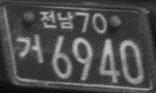0: (119, 39, 145, 86), (91, 11, 107, 34)
4: (99, 38, 121, 84)
6: (50, 34, 73, 79)
7: (75, 11, 90, 34)
9: (72, 35, 95, 82)
거: (16, 33, 44, 64)
전남_O: (39, 9, 75, 31)
